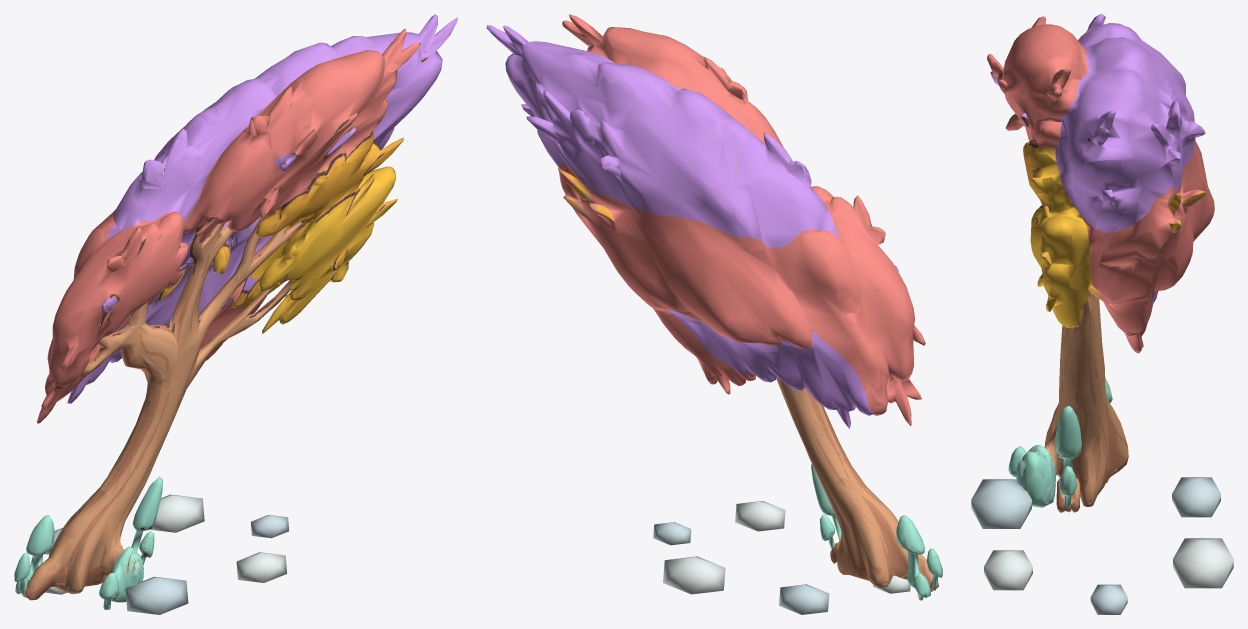
The model's file is lagoon_tree_windswept.glb.
3 renders of one model, left to right at view 1: azimuth 30°, elevation 25°; view 2: azimuth 150°, elevation 25°; view 3: azimuth 270°, elevation 25°, orthographic. The views are drawn at different scales.
Visible parts, largest first — view 1: lagoon_tree_windswept.001; view 2: lagoon_tree_windswept.001; view 3: lagoon_tree_windswept.001.
Boxes of the visible parts, x1,y1,x2,y2 form: lagoon_tree_windswept.001: (14, 14, 457, 614); lagoon_tree_windswept.001: (486, 14, 942, 614); lagoon_tree_windswept.001: (971, 14, 1233, 614).
Size of the model in its own units: 6.59 by 6.98 by 2.65.
Materials: 3 (1 with a texture image).
